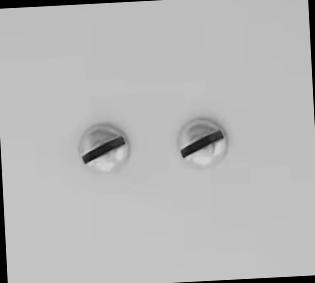screw: (175, 114, 229, 174), (77, 120, 130, 178)
